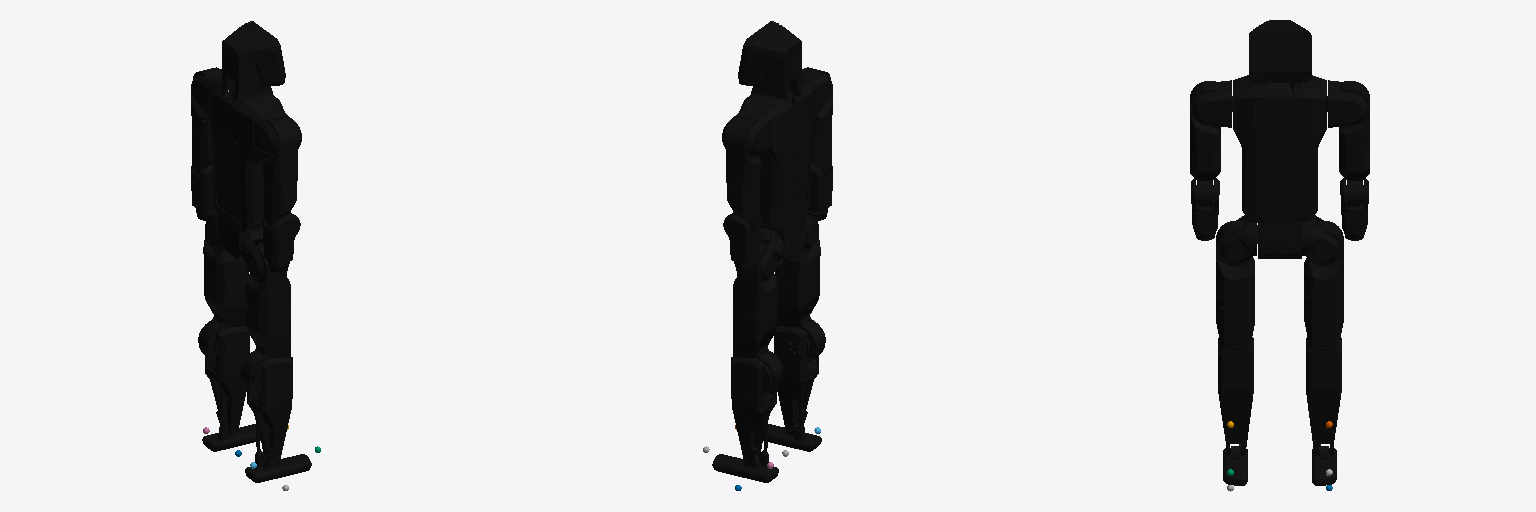
--- Facts derived from the render (not from the file) ---
The picture shows the robot from 3 angles, left to right: view 1: azimuth 30°, elevation 25°; view 2: azimuth 150°, elevation 25°; view 3: azimuth 270°, elevation 25°; orthographic projection.
Robot: kbotv2p0_nohands — 32 links, 31 joints (20 revolute, 11 fixed); root link base; default pose: every joint at zero.
Visible links, largest first — view 1: Torso_Side_Right, KC_D_401R_R_Shin_Drive, KC_D_401L_L_Shin_Drive, KC_D_301L_L_Femur_Lower_Drive, KC_D_301R_R_Femur_Lower_Drive, RS03_3, RS03_4, KC_C_401R_R_UpForearmDrive, RS03_5, KB_D_501R_R_LEG_FOOT, KC_C_104R_PitchHardstopDriven, KC_C_202R (+6 smaller); view 2: Torso_Side_Right, KC_D_401L_L_Shin_Drive, KC_D_401R_R_Shin_Drive, KC_D_301R_R_Femur_Lower_Drive, KC_D_301L_L_Femur_Lower_Drive, RS03_6, RS03_5, KC_C_401L_L_UpForearmDrive, RS03_4, KB_D_501L_L_LEG_FOOT, KC_C_104L_PitchHardstopDriven, KC_C_202L (+6 smaller); view 3: Torso_Side_Right, KC_D_401R_R_Shin_Drive, KC_D_401L_L_Shin_Drive, KC_D_301L_L_Femur_Lower_Drive, RS03_5, KC_D_301R_R_Femur_Lower_Drive, RS03_4, KC_C_104L_PitchHardstopDriven, KC_C_104R_PitchHardstopDriven, RS03_3, RS03_6, KC_D_102L_L_Hip_Yoke_Drive (+7 smaller).
Link boxes in pixels (box(x1,y1,x2,y2)): Torso_Side_Right: box(208, 21, 285, 266); KC_D_401R_R_Shin_Drive: box(247, 351, 292, 465); KC_D_401L_L_Shin_Drive: box(198, 321, 249, 435); KC_D_301L_L_Femur_Lower_Drive: box(199, 276, 248, 361); KC_D_301R_R_Femur_Lower_Drive: box(241, 307, 290, 393); RS03_3: box(263, 117, 297, 189); RS03_4: box(246, 245, 290, 315); KC_C_401R_R_UpForearmDrive: box(263, 215, 300, 263); RS03_5: box(203, 214, 248, 284); KB_D_501R_R_LEG_FOOT: box(245, 451, 311, 482); KC_C_104R_PitchHardstopDriven: box(254, 109, 301, 155); KC_C_202R: box(264, 184, 296, 229); Torso_Side_Right: box(738, 21, 815, 265); KC_D_401L_L_Shin_Drive: box(731, 351, 776, 465); KC_D_401R_R_Shin_Drive: box(774, 320, 825, 435); KC_D_301R_R_Femur_Lower_Drive: box(776, 276, 824, 361); KC_D_301L_L_Femur_Lower_Drive: box(733, 307, 782, 393); RS03_6: box(726, 117, 760, 189); RS03_5: box(733, 245, 777, 315); KC_C_401L_L_UpForearmDrive: box(723, 215, 760, 263); RS03_4: box(775, 214, 820, 284); KB_D_501L_L_LEG_FOOT: box(712, 451, 778, 482); KC_C_104L_PitchHardstopDriven: box(722, 109, 769, 155); KC_C_202L: box(727, 184, 759, 229); Torso_Side_Right: box(1233, 20, 1326, 258); KC_D_401R_R_Shin_Drive: box(1218, 337, 1253, 455); KC_D_401L_L_Shin_Drive: box(1306, 337, 1341, 455); KC_D_301L_L_Femur_Lower_Drive: box(1304, 295, 1343, 350); RS03_5: box(1304, 221, 1343, 298); KC_D_301R_R_Femur_Lower_Drive: box(1216, 295, 1254, 350); RS03_4: box(1216, 221, 1254, 298); KC_C_104L_PitchHardstopDriven: box(1327, 80, 1366, 127); KC_C_104R_PitchHardstopDriven: box(1193, 80, 1232, 127); RS03_3: box(1190, 81, 1220, 154); RS03_6: box(1339, 81, 1369, 154); KC_D_102L_L_Hip_Yoke_Drive: box(1302, 215, 1339, 263).
Size in the robot's own frame: 0.2505 by 0.516 by 1.45 metres.
22 mesh visuals loaded from 22 distinct referenced files (22 binary STL).

The robot description file, URDF, robot "kbotv2p0_nohands":
<?xml version="1.0" ?>
<robot name="kbotv2p0_nohands">
   <!-- Auxiliary keyframe_head_link -->
  <link name="keyframe_head_link">
		<!-- <visual>
		<origin xyz="0 0 0" rpy="0 0 0"/>
		<geometry>
			<sphere radius="0.05"/>
		</geometry>
		</visual> -->
		<visual>
			<geometry>
			<!-- 定义几何形状，例如盒子 -->
			<box size="0.01 0.01 0.01"/>
			</geometry>
			<material name="white">
			<color rgba="1.7 0.7 0.7 1"/>
			</material>
		</visual>
  </link>
  <joint name="keyframe_head_joint" type="fixed" dont_collapse="true">
		<origin xyz="0 0 0.08" rpy="0 0 0"/>
		<parent link="base"/>
		<child link="keyframe_head_link"/>
  </joint>
  <link name="base">
    <visual name="base_visual">
      <geometry name="base_geometry">
        <sphere radius="0.01"/>
      </geometry>
      <material name="base_material">
        <color rgba="1 0 0 1"/>
      </material>
      <origin xyz="0 -0.095 0" rpy="0 0 1.5708"/>
    </visual>
    <inertial name="base_inertial">
      <mass value="0.001"/>
      <inertia ixx="0.000001" iyy="0.000001" izz="0.000001" ixy="0" ixz="0" iyz="0"/>
      <origin xyz="0 -0.095 0" rpy="0 0 1.5708"/>
    </inertial>
  </link>
  <joint name="base_joint" type="fixed">
    <parent link="base"/>
    <child link="Torso_Side_Right"/>
    <origin xyz="0 -0.095 0" rpy="0 0 1.5708"/>
  </joint>
  <joint name="dof_right_shoulder_pitch_03" type="revolute">
    <origin xyz="-0.028031 0.000007 0.126021" rpy="1.570796 0 1.570796"/>
    <parent link="Torso_Side_Right"/>
    <child link="KC_C_104R_PitchHardstopDriven"/>
    <limit effort="60" velocity="18.849" lower="-3.141593" upper="1.396263"/>
    <axis xyz="0 0 1"/>
  </joint>
  <joint name="frame_imu_site" type="fixed">
    <origin xyz="0.121783 0.043292 0.231518" rpy="1.582557 1.570794 1.582557"/>
    <parent link="Torso_Side_Right"/>
    <child link="imu"/>
  </joint>
  <joint name="dof_left_shoulder_pitch_03" type="revolute">
    <origin xyz="0.213969 0.000007 0.126021" rpy="-1.570796 0 1.570796"/>
    <parent link="Torso_Side_Right"/>
    <child link="KC_C_104L_PitchHardstopDriven"/>
    <limit effort="60" velocity="18.849" lower="-1.396263" upper="3.141593"/>
    <axis xyz="0 0 1"/>
  </joint>
  <joint name="dof_right_hip_pitch_04" type="revolute">
    <origin xyz="0.037469 0.000007 -0.284479" rpy="1.570796 0 1.570796"/>
    <parent link="Torso_Side_Right"/>
    <child link="KC_D_102R_R_Hip_Yoke_Drive"/>
    <limit effort="120" velocity="17.488" lower="-2.216568" upper="1.047198"/>
    <axis xyz="0 0 1"/>
  </joint>
  <joint name="dof_left_hip_pitch_04" type="revolute">
    <origin xyz="0.147969 0.000007 -0.284479" rpy="-1.570796 0 1.570796"/>
    <parent link="Torso_Side_Right"/>
    <child link="KC_D_102L_L_Hip_Yoke_Drive"/>
    <limit effort="120" velocity="17.488" lower="-1.047198" upper="2.216568"/>
    <axis xyz="0 0 1"/>
  </joint>
  <joint name="dof_right_shoulder_roll_03" type="revolute">
    <origin xyz="-0.024250 0 -0.080000" rpy="-3.141593 -1.570796 0"/>
    <parent link="KC_C_104R_PitchHardstopDriven"/>
    <child link="RS03_3"/>
    <limit effort="60" velocity="18.849" lower="-1.658063" upper="0.349066"/>
    <axis xyz="0 0 -1"/>
  </joint>
  <joint name="dof_right_hip_roll_03" type="revolute">
    <origin xyz="-0.028250 -0.030000 -0.071000" rpy="3.141593 -1.570796 0"/>
    <parent link="KC_D_102R_R_Hip_Yoke_Drive"/>
    <child link="RS03_4"/>
    <limit effort="60" velocity="18.849" lower="-2.268928" upper="0.209440"/>
    <axis xyz="0 0 -1"/>
  </joint>
  <joint name="dof_left_hip_roll_03" type="revolute">
    <origin xyz="-0.028250 0.030000 -0.071000" rpy="0 1.570796 0"/>
    <parent link="KC_D_102L_L_Hip_Yoke_Drive"/>
    <child link="RS03_5"/>
    <limit effort="60" velocity="18.849" lower="-0.209440" upper="2.268928"/>
    <axis xyz="0 0 -1"/>
  </joint>
  <joint name="dof_left_shoulder_roll_03" type="revolute">
    <origin xyz="-0.024250 0 -0.080000" rpy="-3.141593 1.570796 0"/>
    <parent link="KC_C_104L_PitchHardstopDriven"/>
    <child link="RS03_6"/>
    <limit effort="60" velocity="18.849" lower="-0.349066" upper="1.658063"/>
    <axis xyz="0 0 1"/>
  </joint>
  <joint name="dof_right_shoulder_yaw_02" type="revolute">
    <origin xyz="-0.013000 0.142000 0.030250" rpy="1.570796 0 0"/>
    <parent link="RS03_3"/>
    <child link="KC_C_202R"/>
    <limit effort="17" velocity="37.699" lower="-1.658063" upper="1.658063"/>
    <axis xyz="0 0 1"/>
  </joint>
  <joint name="dof_left_shoulder_yaw_02" type="revolute">
    <origin xyz="0.013000 -0.142000 -0.030250" rpy="1.570796 0 0"/>
    <parent link="RS03_6"/>
    <child link="KC_C_202L"/>
    <limit effort="17" velocity="37.699" lower="-1.658063" upper="1.658063"/>
    <axis xyz="0 0 -1"/>
  </joint>
  <joint name="dof_right_hip_yaw_03" type="revolute">
    <origin xyz="0 0.143000 0.024250" rpy="-1.570796 0 0"/>
    <parent link="RS03_4"/>
    <child link="KC_D_301R_R_Femur_Lower_Drive"/>
    <limit effort="60" velocity="18.849" lower="-1.570796" upper="1.570796"/>
    <axis xyz="0 0 -1"/>
  </joint>
  <joint name="dof_left_hip_yaw_03" type="revolute">
    <origin xyz="0 0.143000 0.024250" rpy="-1.570796 0 0"/>
    <parent link="RS03_5"/>
    <child link="KC_D_301L_L_Femur_Lower_Drive"/>
    <limit effort="60" velocity="18.849" lower="-1.570796" upper="1.570796"/>
    <axis xyz="0 0 -1"/>
  </joint>
  <joint name="dof_right_elbow_02" type="revolute">
    <origin xyz="0.018500 -0.010000 -0.137000" rpy="0 1.570796 0"/>
    <parent link="KC_C_202R"/>
    <child link="KC_C_401R_R_UpForearmDrive"/>
    <limit effort="17" velocity="37.699" lower="0" upper="2.478368"/>
    <axis xyz="0 0 -1"/>
  </joint>
  <joint name="dof_left_elbow_02" type="revolute">
    <origin xyz="-0.018500 0.010000 0.137000" rpy="-3.141593 1.570796 0"/>
    <parent link="KC_C_202L"/>
    <child link="KC_C_401L_L_UpForearmDrive"/>
    <limit effort="17" velocity="37.699" lower="-2.478368" upper="0"/>
    <axis xyz="0 0 -1"/>
  </joint>
  <joint name="dof_right_knee_04" type="revolute">
    <origin xyz="0.020500 -0.021000 0.212000" rpy="1.570796 0 -1.570796"/>
    <parent link="KC_D_301R_R_Femur_Lower_Drive"/>
    <child link="KC_D_401R_R_Shin_Drive"/>
    <limit effort="120" velocity="17.488" lower="-2.705260" upper="0"/>
    <axis xyz="0 0 1"/>
  </joint>
  <joint name="dof_left_knee_04" type="revolute">
    <origin xyz="-0.020500 -0.021000 0.212000" rpy="-1.570796 0 -1.570796"/>
    <parent link="KC_D_301L_L_Femur_Lower_Drive"/>
    <child link="KC_D_401L_L_Shin_Drive"/>
    <limit effort="120" velocity="17.488" lower="0" upper="2.705260"/>
    <axis xyz="0 0 1"/>
  </joint>
  <joint name="dof_right_wrist_00" type="revolute">
    <origin xyz="0.103000 0.017350 -0.018000" rpy="0 -1.570796 0"/>
    <parent link="KC_C_401R_R_UpForearmDrive"/>
    <child link="KB_C_501X_Right_Bayonet_Adapter_Hard_Stop"/>
    <limit effort="14" velocity="27.227" lower="-1.745329" upper="1.745329"/>
    <axis xyz="0 0 1"/>
  </joint>
  <joint name="dof_left_wrist_00" type="revolute">
    <origin xyz="-0.103000 0.017350 -0.018000" rpy="-3.141593 1.570796 0"/>
    <parent link="KC_C_401L_L_UpForearmDrive"/>
    <child link="KB_C_501X_Left_Bayonet_Adapter_Hard_Stop"/>
    <limit effort="14" velocity="27.227" lower="-1.745329" upper="1.745329"/>
    <axis xyz="0 0 -1"/>
  </joint>
  <joint name="dof_right_ankle_02" type="revolute">
    <origin xyz="-0.030000 0.290000 0.035100" rpy="0 0 0"/>
    <parent link="KC_D_401R_R_Shin_Drive"/>
    <child link="KB_D_501R_R_LEG_FOOT"/>
    <limit effort="17" velocity="37.699" lower="-0.226893" upper="1.256637"/>
    <axis xyz="0 0 1"/>
  </joint>
  <joint name="dof_left_ankle_02" type="revolute">
    <origin xyz="-0.030000 -0.290000 0.035100" rpy="-3.141593 0 0"/>
    <parent link="KC_D_401L_L_Shin_Drive"/>
    <child link="KB_D_501L_L_LEG_FOOT"/>
    <limit effort="17" velocity="37.699" lower="-1.256637" upper="0.226893"/>
    <axis xyz="0 0 -1"/>
  </joint>
  <link name="Torso_Side_Right">
    <visual name="Torso_Side_Right_visual">
      <origin xyz="0 0 0" rpy="0 0 0"/>
      <geometry name="Torso_Side_Right_geometry">
        <mesh filename="meshes/Torso_Side_Right.stl"/>
      </geometry>
      <material name="Torso_Side_Right_material">
        <color rgba="0.098039 0.098039 0.098039 1"/>
      </material>
    </visual>
    <inertial name="Torso_Side_Right_inertial">
      <mass value="13.504988"/>
      <inertia ixx="0.485847" iyy="0.512347" izz="0.059200" ixy="0.000137" ixz="-0.000988" iyz="0.010329"/>
      <origin xyz="0.093177 -0.000920 -0.063462" rpy="0 0 0"/>
    </inertial>
  </link>
  <link name="KC_C_104R_PitchHardstopDriven">
    <visual name="KC_C_104R_PitchHardstopDriven_visual">
      <origin xyz="0 0 0" rpy="0 0 0"/>
      <geometry name="KC_C_104R_PitchHardstopDriven_geometry">
        <mesh filename="meshes/KC_C_104R_PitchHardstopDriven.stl"/>
      </geometry>
      <material name="KC_C_104R_PitchHardstopDriven_material">
        <color rgba="0.098039 0.098039 0.098039 1"/>
      </material>
    </visual>
    <inertial name="KC_C_104R_PitchHardstopDriven_inertial">
      <mass value="0.584848"/>
      <inertia ixx="0.001182" iyy="0.001537" izz="0.001416" ixy="-0.000003" ixz="-0.000067" iyz="-0.000002"/>
      <origin xyz="-0.004584 0.002745 -0.051222" rpy="0 0 0"/>
    </inertial>
  </link>
  <link name="imu">
    <visual name="imu_visual">
      <origin xyz="0 0 0" rpy="0 0 0"/>
      <geometry name="imu_geometry">
        <mesh filename="meshes/imu.stl"/>
      </geometry>
      <material name="imu_material">
        <color rgba="0.615686 0.811765 0.929412 1"/>
      </material>
    </visual>
    <inertial name="imu_inertial">
      <mass value="0.005700"/>
      <inertia ixx="0.000001" iyy="0.000001" izz="0.000002" ixy="0" ixz="0" iyz="0"/>
      <origin xyz="0.014737 -0.012000 0.003000" rpy="0 0 0"/>
    </inertial>
  </link>
  <link name="KC_C_104L_PitchHardstopDriven">
    <visual name="KC_C_104L_PitchHardstopDriven_visual">
      <origin xyz="0 0 0" rpy="0 0 0"/>
      <geometry name="KC_C_104L_PitchHardstopDriven_geometry">
        <mesh filename="meshes/KC_C_104L_PitchHardstopDriven.stl"/>
      </geometry>
      <material name="KC_C_104L_PitchHardstopDriven_material">
        <color rgba="0.098039 0.098039 0.098039 1"/>
      </material>
    </visual>
    <inertial name="KC_C_104L_PitchHardstopDriven_inertial">
      <mass value="0.584843"/>
      <inertia ixx="0.001182" iyy="0.001536" izz="0.001415" ixy="0.000003" ixz="-0.000067" iyz="0.000002"/>
      <origin xyz="-0.004595 -0.002745 -0.051222" rpy="0 0 0"/>
    </inertial>
  </link>
  <link name="KC_D_102R_R_Hip_Yoke_Drive">
    <visual name="KC_D_102R_R_Hip_Yoke_Drive_visual">
      <origin xyz="0 0 0" rpy="0 0 0"/>
      <geometry name="KC_D_102R_R_Hip_Yoke_Drive_geometry">
        <mesh filename="meshes/KC_D_102R_R_Hip_Yoke_Drive.stl"/>
      </geometry>
      <material name="KC_D_102R_R_Hip_Yoke_Drive_material">
        <color rgba="0.098039 0.098039 0.098039 1"/>
      </material>
    </visual>
    <inertial name="KC_D_102R_R_Hip_Yoke_Drive_inertial">
      <mass value="0.530428"/>
      <inertia ixx="0.000880" iyy="0.001182" izz="0.001271" ixy="-0.000099" ixz="-0.000086" iyz="-0.000156"/>
      <origin xyz="-0.005644 -0.004227 -0.038197" rpy="0 0 0"/>
    </inertial>
  </link>
  <link name="KC_D_102L_L_Hip_Yoke_Drive">
    <visual name="KC_D_102L_L_Hip_Yoke_Drive_visual">
      <origin xyz="0 0 0" rpy="0 0 0"/>
      <geometry name="KC_D_102L_L_Hip_Yoke_Drive_geometry">
        <mesh filename="meshes/KC_D_102L_L_Hip_Yoke_Drive.stl"/>
      </geometry>
      <material name="KC_D_102L_L_Hip_Yoke_Drive_material">
        <color rgba="0.098039 0.098039 0.098039 1"/>
      </material>
    </visual>
    <inertial name="KC_D_102L_L_Hip_Yoke_Drive_inertial">
      <mass value="0.530424"/>
      <inertia ixx="0.000880" iyy="0.001182" izz="0.001271" ixy="0.000099" ixz="-0.000086" iyz="0.000156"/>
      <origin xyz="-0.005644 0.004227 -0.038197" rpy="0 0 0"/>
    </inertial>
  </link>
  <link name="RS03_3">
    <visual name="RS03_visual_3">
      <origin xyz="0 0 0" rpy="0 0 0"/>
      <geometry name="RS03_geometry_3">
        <mesh filename="meshes/RS03_3.stl"/>
      </geometry>
      <material name="RS03_material_3">
        <color rgba="0.098039 0.098039 0.098039 1"/>
      </material>
    </visual>
    <inertial name="RS03_inertial_3">
      <mass value="1.676509"/>
      <inertia ixx="0.006831" iyy="0.001755" izz="0.007324" ixy="0.000582" ixz="0" iyz="-0.000061"/>
      <origin xyz="-0.004944 0.042532 0.027432" rpy="0 0 0"/>
    </inertial>
  </link>
  <link name="RS03_4">
    <visual name="RS03_visual_4">
      <origin xyz="0 0 0" rpy="0 0 0"/>
      <geometry name="RS03_geometry_4">
        <mesh filename="meshes/RS03_4.stl"/>
      </geometry>
      <material name="RS03_material_4">
        <color rgba="0.098039 0.098039 0.098039 1"/>
      </material>
    </visual>
    <inertial name="RS03_inertial_4">
      <mass value="2.373184"/>
      <inertia ixx="0.010217" iyy="0.003255" izz="0.010667" ixy="-0.000008" ixz="0.000004" iyz="0.000383"/>
      <origin xyz="-0.000249 0.058017 0.025580" rpy="0 0 0"/>
    </inertial>
  </link>
  <link name="RS03_5">
    <visual name="RS03_visual_5">
      <origin xyz="0 0 0" rpy="0 0 0"/>
      <geometry name="RS03_geometry_5">
        <mesh filename="meshes/RS03_5.stl"/>
      </geometry>
      <material name="RS03_material_5">
        <color rgba="0.098039 0.098039 0.098039 1"/>
      </material>
    </visual>
    <inertial name="RS03_inertial_5">
      <mass value="2.373239"/>
      <inertia ixx="0.010217" iyy="0.003255" izz="0.010667" ixy="0.000008" ixz="-0.000004" iyz="0.000383"/>
      <origin xyz="0.000249 0.058017 0.025578" rpy="0 0 0"/>
    </inertial>
  </link>
  <link name="RS03_6">
    <visual name="RS03_visual_6">
      <origin xyz="0 0 0" rpy="0 0 0"/>
      <geometry name="RS03_geometry_6">
        <mesh filename="meshes/RS03_6.stl"/>
      </geometry>
      <material name="RS03_material_6">
        <color rgba="0.098039 0.098039 0.098039 1"/>
      </material>
    </visual>
    <inertial name="RS03_inertial_6">
      <mass value="1.676479"/>
      <inertia ixx="0.006830" iyy="0.001755" izz="0.007324" ixy="0.000582" ixz="0" iyz="-0.000061"/>
      <origin xyz="0.004944 -0.042531 -0.027433" rpy="0 0 0"/>
    </inertial>
  </link>
  <link name="KC_C_202R">
    <visual name="KC_C_202R_visual">
      <origin xyz="0 0 0" rpy="0 0 0"/>
      <geometry name="KC_C_202R_geometry">
        <mesh filename="meshes/KC_C_202R.stl"/>
      </geometry>
      <material name="KC_C_202R_material">
        <color rgba="0.098039 0.098039 0.098039 1"/>
      </material>
    </visual>
    <inertial name="KC_C_202R_inertial">
      <mass value="0.743508"/>
      <inertia ixx="0.002410" iyy="0.002208" izz="0.000693" ixy="-0.000030" ixz="-0.000203" iyz="-0.000143"/>
      <origin xyz="0.003910 -0.004160 -0.101316" rpy="0 0 0"/>
    </inertial>
  </link>
  <link name="KC_C_202L">
    <visual name="KC_C_202L_visual">
      <origin xyz="0 0 0" rpy="0 0 0"/>
      <geometry name="KC_C_202L_geometry">
        <mesh filename="meshes/KC_C_202L.stl"/>
      </geometry>
      <material name="KC_C_202L_material">
        <color rgba="0.098039 0.098039 0.098039 1"/>
      </material>
    </visual>
    <inertial name="KC_C_202L_inertial">
      <mass value="0.579259"/>
      <inertia ixx="0.001537" iyy="0.001383" izz="0.000471" ixy="-0.000005" ixz="-0.000047" iyz="-0.000099"/>
      <origin xyz="0.000925 0.006010 0.113327" rpy="0 0 0"/>
    </inertial>
  </link>
  <link name="KC_D_301R_R_Femur_Lower_Drive">
    <visual name="KC_D_301R_R_Femur_Lower_Drive_visual">
      <origin xyz="0 0 0" rpy="0 0 0"/>
      <geometry name="KC_D_301R_R_Femur_Lower_Drive_geometry">
        <mesh filename="meshes/KC_D_301R_R_Femur_Lower_Drive.stl"/>
      </geometry>
      <material name="KC_D_301R_R_Femur_Lower_Drive_material">
        <color rgba="0.098039 0.098039 0.098039 1"/>
      </material>
    </visual>
    <inertial name="KC_D_301R_R_Femur_Lower_Drive_inertial">
      <mass value="2.343635"/>
      <inertia ixx="0.015645" iyy="0.014172" izz="0.004016" ixy="-0.000180" ixz="0.001092" iyz="0.001522"/>
      <origin xyz="-0.001014 -0.013387 0.171456" rpy="0 0 0"/>
    </inertial>
  </link>
  <link name="KC_D_301L_L_Femur_Lower_Drive">
    <visual name="KC_D_301L_L_Femur_Lower_Drive_visual">
      <origin xyz="0 0 0" rpy="0 0 0"/>
      <geometry name="KC_D_301L_L_Femur_Lower_Drive_geometry">
        <mesh filename="meshes/KC_D_301L_L_Femur_Lower_Drive.stl"/>
      </geometry>
      <material name="KC_D_301L_L_Femur_Lower_Drive_material">
        <color rgba="0.098039 0.098039 0.098039 1"/>
      </material>
    </visual>
    <inertial name="KC_D_301L_L_Femur_Lower_Drive_inertial">
      <mass value="2.343629"/>
      <inertia ixx="0.015644" iyy="0.014172" izz="0.004016" ixy="0.000181" ixz="-0.001092" iyz="0.001522"/>
      <origin xyz="0.001013 -0.013386 0.171458" rpy="0 0 0"/>
    </inertial>
  </link>
  <link name="KC_C_401R_R_UpForearmDrive">
    <visual name="KC_C_401R_R_UpForearmDrive_visual">
      <origin xyz="0 0 0" rpy="0 0 0"/>
      <geometry name="KC_C_401R_R_UpForearmDrive_geometry">
        <mesh filename="meshes/KC_C_401R_R_UpForearmDrive.stl"/>
      </geometry>
      <material name="KC_C_401R_R_UpForearmDrive_material">
        <color rgba="0.098039 0.098039 0.098039 1"/>
      </material>
    </visual>
    <inertial name="KC_C_401R_R_UpForearmDrive_inertial">
      <mass value="0.585204"/>
      <inertia ixx="0.000522" iyy="0.001021" izz="0.001020" ixy="-0.000047" ixz="0.000102" iyz="0.000017"/>
      <origin xyz="0.061999 0.015867 -0.012446" rpy="0 0 0"/>
    </inertial>
  </link>
  <link name="KC_C_401L_L_UpForearmDrive">
    <visual name="KC_C_401L_L_UpForearmDrive_visual">
      <origin xyz="0 0 0" rpy="0 0 0"/>
      <geometry name="KC_C_401L_L_UpForearmDrive_geometry">
        <mesh filename="meshes/KC_C_401L_L_UpForearmDrive.stl"/>
      </geometry>
      <material name="KC_C_401L_L_UpForearmDrive_material">
        <color rgba="0.098039 0.098039 0.098039 1"/>
      </material>
    </visual>
    <inertial name="KC_C_401L_L_UpForearmDrive_inertial">
      <mass value="0.585219"/>
      <inertia ixx="0.000522" iyy="0.001021" izz="0.001020" ixy="0.000047" ixz="-0.000102" iyz="0.000017"/>
      <origin xyz="-0.061998 0.015867 -0.012446" rpy="0 0 0"/>
    </inertial>
  </link>
  <link name="KC_D_401R_R_Shin_Drive">
    <visual name="KC_D_401R_R_Shin_Drive_visual">
      <origin xyz="0 0 0" rpy="0 0 0"/>
      <geometry name="KC_D_401R_R_Shin_Drive_geometry">
        <mesh filename="meshes/KC_D_401R_R_Shin_Drive.stl"/>
      </geometry>
      <material name="KC_D_401R_R_Shin_Drive_material">
        <color rgba="0.098039 0.098039 0.098039 1"/>
      </material>
    </visual>
    <inertial name="KC_D_401R_R_Shin_Drive_inertial">
      <mass value="1.670592"/>
      <inertia ixx="0.014672" iyy="0.002924" izz="0.014592" ixy="0.000103" ixz="0.000025" iyz="-0.000490"/>
      <origin xyz="-0.024549 0.104152 0.018182" rpy="0 0 0"/>
    </inertial>
  </link>
  <link name="KC_D_401L_L_Shin_Drive">
    <visual name="KC_D_401L_L_Shin_Drive_visual">
      <origin xyz="0 0 0" rpy="0 0 0"/>
      <geometry name="KC_D_401L_L_Shin_Drive_geometry">
        <mesh filename="meshes/KC_D_401L_L_Shin_Drive.stl"/>
      </geometry>
      <material name="KC_D_401L_L_Shin_Drive_material">
        <color rgba="0.098039 0.098039 0.098039 1"/>
      </material>
    </visual>
    <inertial name="KC_D_401L_L_Shin_Drive_inertial">
      <mass value="1.670535"/>
      <inertia ixx="0.014672" iyy="0.002924" izz="0.014592" ixy="-0.000103" ixz="0.000025" iyz="0.000490"/>
      <origin xyz="-0.024550 -0.104154 0.018183" rpy="0 0 0"/>
    </inertial>
  </link>
  <link name="KB_C_501X_Right_Bayonet_Adapter_Hard_Stop">
    <visual name="KB_C_501X_Right_Bayonet_Adapter_Hard_Stop_visual">
      <origin xyz="0 0 0" rpy="0 0 0"/>
      <geometry name="KB_C_501X_Right_Bayonet_Adapter_Hard_Stop_geometry">
        <mesh filename="meshes/KB_C_501X_Right_Bayonet_Adapter_Hard_Stop.stl"/>
      </geometry>
      <material name="KB_C_501X_Right_Bayonet_Adapter_Hard_Stop_material">
        <color rgba="0.098039 0.098039 0.098039 1"/>
      </material>
    </visual>
    <inertial name="KB_C_501X_Right_Bayonet_Adapter_Hard_Stop_inertial">
      <mass value="0.152198"/>
      <inertia ixx="0.000061" iyy="0.000061" izz="0.000084" ixy="0" ixz="0" iyz="0"/>
      <origin xyz="0.004187 0.000068 -0.019905" rpy="0 0 0"/>
    </inertial>
  </link>
  <link name="KB_C_501X_Left_Bayonet_Adapter_Hard_Stop">
    <visual name="KB_C_501X_Left_Bayonet_Adapter_Hard_Stop_visual">
      <origin xyz="0 0 0" rpy="0 0 0"/>
      <geometry name="KB_C_501X_Left_Bayonet_Adapter_Hard_Stop_geometry">
        <mesh filename="meshes/KB_C_501X_Left_Bayonet_Adapter_Hard_Stop.stl"/>
      </geometry>
      <material name="KB_C_501X_Left_Bayonet_Adapter_Hard_Stop_material">
        <color rgba="0.098039 0.098039 0.098039 1"/>
      </material>
    </visual>
    <inertial name="KB_C_501X_Left_Bayonet_Adapter_Hard_Stop_inertial">
      <mass value="0.152198"/>
      <inertia ixx="0.000061" iyy="0.000061" izz="0.000084" ixy="0" ixz="0" iyz="0"/>
      <origin xyz="-0.004187 -0.000068 0.019905" rpy="0 0 0"/>
    </inertial>
  </link>
  <link name="KB_D_501R_R_LEG_FOOT">
    <visual name="KB_D_501R_R_LEG_FOOT_visual">
      <origin xyz="0 0 0" rpy="0 0 0"/>
      <geometry name="KB_D_501R_R_LEG_FOOT_geometry">
        <mesh filename="meshes/KB_D_501R_R_LEG_FOOT.stl"/>
      </geometry>
      <material name="KB_D_501R_R_LEG_FOOT_material">
        <color rgba="0.098039 0.098039 0.098039 1"/>
      </material>
    </visual>
    <collision name="KB_D_501R_R_LEG_FOOT.collision">
      <origin xyz="0 0 0" rpy="0 0 0"/>
      <geometry name="KB_D_501R_R_LEG_FOOT_collision_geometry">
        <mesh filename="meshes/KB_D_501R_R_LEG_FOOT.collision.stl"/>
      </geometry>
    </collision>
    <inertial name="KB_D_501R_R_LEG_FOOT_inertial">
      <mass value="0.620712"/>
      <inertia ixx="0.000370" iyy="0.002011" izz="0.001945" ixy="0.000111" ixz="0.000019" iyz="-0.000021"/>
      <origin xyz="-0.017470 0.032456 -0.015742" rpy="0 0 0"/>
    </inertial>
  </link>

  <!-- Auxiliary left foot -->
  <link name="auxiliary_l_foot_link1">
		<visual>
		<origin xyz="0 0 0" rpy="0 0 0"/>
		<geometry>
			<sphere radius="0.01"/>
		</geometry>
		</visual>
	</link>
	<joint name="auxiliary_l_foot_joint1" type="fixed" dont_collapse="true">
		<origin xyz="-0.04 0.1 0" rpy="0 0 0"/>
		<parent link="KB_D_501R_R_LEG_FOOT"/>
		<child link="auxiliary_l_foot_link1"/>
	</joint>
	<link name="auxiliary_l_foot_link2">
		<visual>
		<origin xyz="0 0 0" rpy="0 0 0"/>
		<geometry>
			<sphere radius="0.01"/>
		</geometry>
		</visual>
	</link>
	<joint name="auxiliary_l_foot_joint2" type="fixed" dont_collapse="true">
		<origin xyz="-0.04 -0.1 0" rpy="0 0 0"/>
		<parent link="KB_D_501R_R_LEG_FOOT"/>
		<child link="auxiliary_l_foot_link2"/>
	</joint>

	<link name="auxiliary_l_foot_link3">
		<visual>
		<origin xyz="0 0 0" rpy="0 0 0"/>
		<geometry>
			<sphere radius="0.01"/>
		</geometry>
		</visual>
	</link>
	<joint name="auxiliary_l_foot_joint3" type="fixed" dont_collapse="true">
		<origin xyz="0.07 0 0" rpy="0 0 0"/>
		<parent link="KB_D_501R_R_LEG_FOOT"/>
		<child link="auxiliary_l_foot_link3"/>
	</joint>
	<link name="auxiliary_l_foot_link4">
		<visual>
		<origin xyz="0 0 0" rpy="0 0 0"/>
		<geometry>
			<sphere radius="0.01"/>
		</geometry>
		</visual>
	</link>
	<joint name="auxiliary_l_foot_joint4" type="fixed" dont_collapse="true">
		<origin xyz="-0.15 0 0" rpy="0 0 0"/>
		<parent link="KB_D_501R_R_LEG_FOOT"/>
		<child link="auxiliary_l_foot_link4"/>
	</joint>


  <link name="KB_D_501L_L_LEG_FOOT">
    <visual name="KB_D_501L_L_LEG_FOOT_visual">
      <origin xyz="0 0 0" rpy="0 0 0"/>
      <geometry name="KB_D_501L_L_LEG_FOOT_geometry">
        <mesh filename="meshes/KB_D_501L_L_LEG_FOOT.stl"/>
      </geometry>
      <material name="KB_D_501L_L_LEG_FOOT_material">
        <color rgba="0.098039 0.098039 0.098039 1"/>
      </material>
    </visual>
    <collision name="KB_D_501L_L_LEG_FOOT.collision">
      <origin xyz="0 0 0" rpy="0 0 0"/>
      <geometry name="KB_D_501L_L_LEG_FOOT_collision_geometry">
        <mesh filename="meshes/KB_D_501L_L_LEG_FOOT.collision.stl"/>
      </geometry>
    </collision>
    <inertial name="KB_D_501L_L_LEG_FOOT_inertial">
      <mass value="0.620712"/>
      <inertia ixx="0.000370" iyy="0.002011" izz="0.001945" ixy="0.000111" ixz="-0.000019" iyz="0.000021"/>
      <origin xyz="-0.017470 0.032456 0.015742" rpy="0 0 0"/>
    </inertial>
  </link>

  <!-- Auxiliary right foot -->
  <link name="auxiliary_r_foot_link1">
		<visual>
		<origin xyz="0 0 0" rpy="0 0 0"/>
		<geometry>
			<sphere radius="0.01"/>
		</geometry>
		</visual>
  </link>
    todo 待修正位置，以及foot上面的碰撞点
	<joint name="auxiliary_r_foot_joint1" type="fixed" dont_collapse="true">
		<origin xyz="-0.04 0.1 0" rpy="0 0 0"/>
		<parent link="KB_D_501L_L_LEG_FOOT"/>
		<child link="auxiliary_r_foot_link1"/>
	</joint>
	<link name="auxiliary_r_foot_link2">
		<visual>
		<origin xyz="0 0 0" rpy="0 0 0"/>
		<geometry>
			<sphere radius="0.01"/>
		</geometry>
		</visual>
	</link>
	<joint name="auxiliary_r_foot_joint2" type="fixed" dont_collapse="true">
		<origin xyz="-0.04 -0.1 0" rpy="0 0 0"/>
		<parent link="KB_D_501L_L_LEG_FOOT"/>
		<child link="auxiliary_r_foot_link2"/>
	</joint>

	<link name="auxiliary_r_foot_link3">
		<visual>
		<origin xyz="0 0 0" rpy="0 0 0"/>
		<geometry>
			<sphere radius="0.01"/>
		</geometry>
		</visual>
	</link>
	<joint name="auxiliary_r_foot_joint3" type="fixed" dont_collapse="true">
		<origin xyz="0.07 0 0" rpy="0 0 0"/>
		<parent link="KB_D_501L_L_LEG_FOOT"/>
		<child link="auxiliary_r_foot_link3"/>
	</joint>
	<link name="auxiliary_r_foot_link4">
		<visual>
		<origin xyz="0 0 0" rpy="0 0 0"/>
		<geometry>
			<sphere radius="0.01"/>
		</geometry>
		</visual>
	</link>
	<joint name="auxiliary_r_foot_joint4" type="fixed" dont_collapse="true">
		<origin xyz="-0.15 0 0" rpy="0 0 0"/>
		<parent link="KB_D_501L_L_LEG_FOOT"/>
		<child link="auxiliary_r_foot_link4"/>
	</joint>
</robot>
